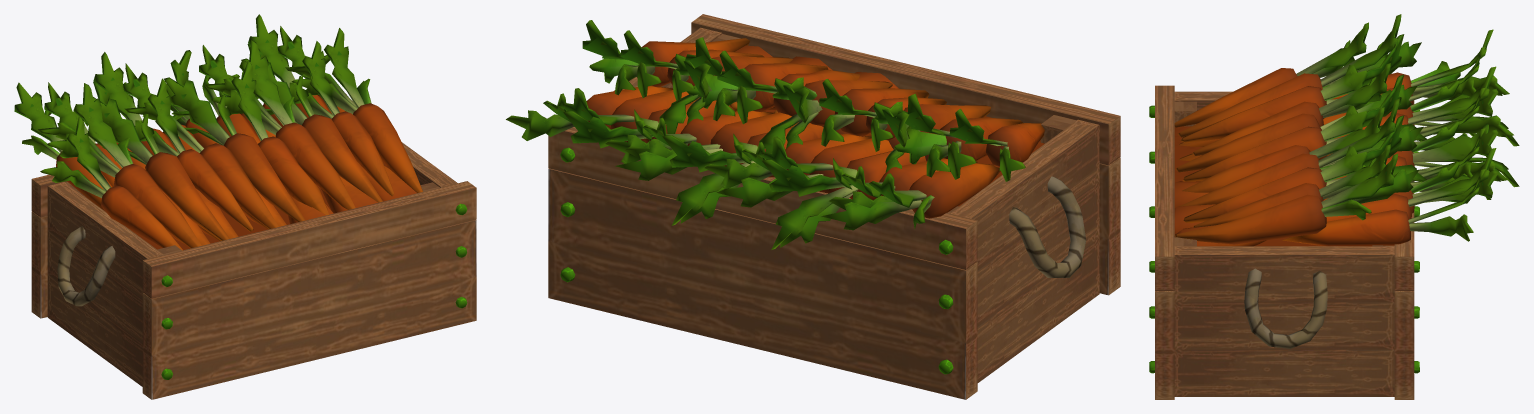
The model's file is FarmCrate_Carrot.gltf.
3 renders of one model, left to right at view 1: azimuth 30°, elevation 25°; view 2: azimuth 150°, elevation 25°; view 3: azimuth 270°, elevation 25°, orthographic. The views are drawn at different scales.
Visible parts, largest first — view 1: FarmCrate_Carrot; view 2: FarmCrate_Carrot; view 3: FarmCrate_Carrot.
Boxes of the visible parts, x1,y1,x2,y2 form: FarmCrate_Carrot: [14, 14, 476, 399]; FarmCrate_Carrot: [506, 14, 1120, 399]; FarmCrate_Carrot: [1149, 14, 1519, 399].
Bounding box in the file's own units: 0.7138 × 0.4113 × 0.567.
3 materials, 3 textured.
